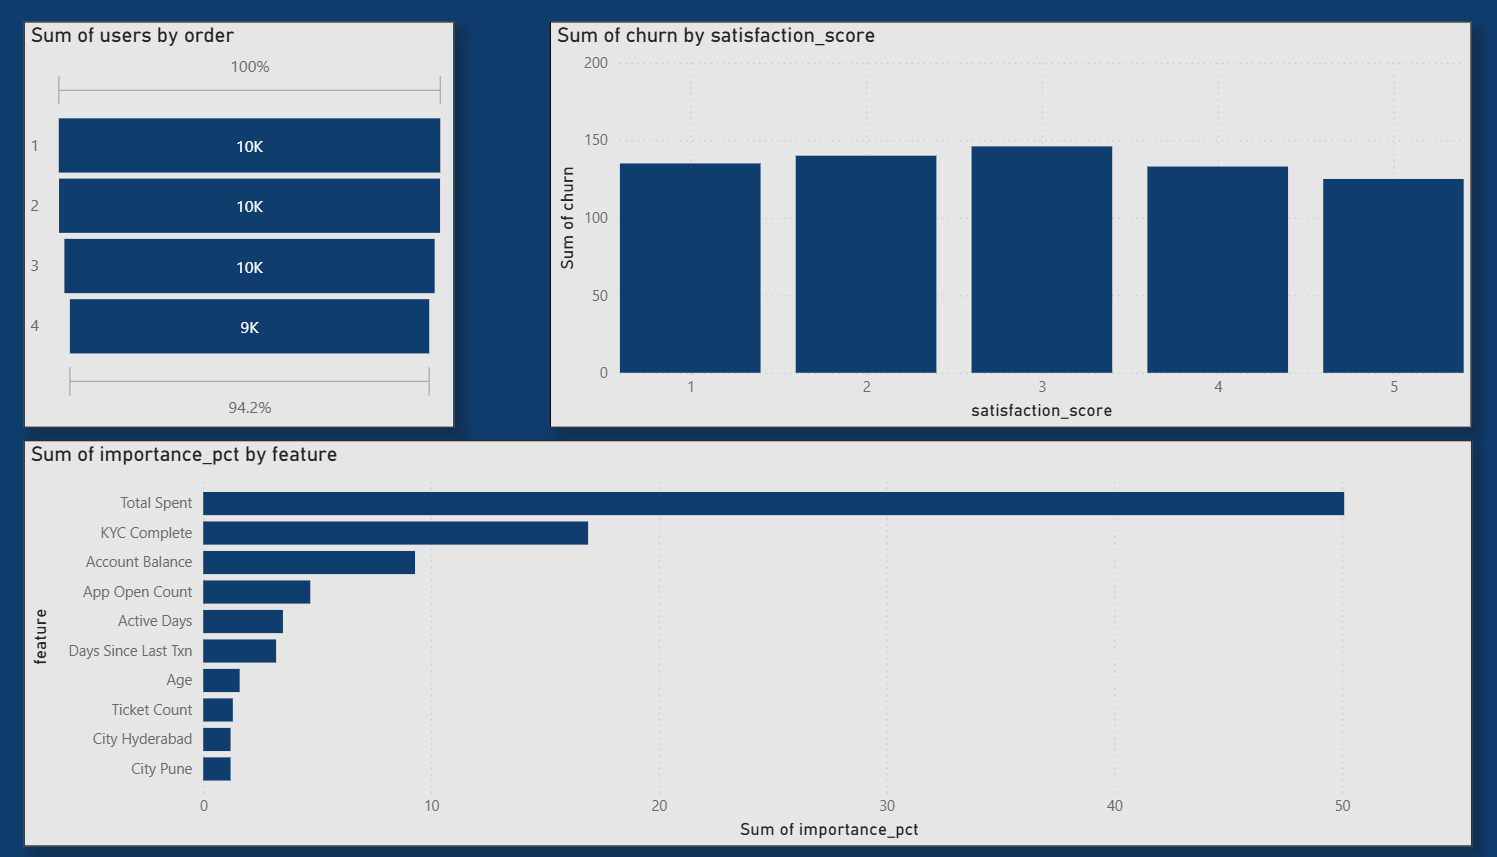

This screenshot's page, from the dashboard's own definition file:
{"tool":"powerbi","page":{"name":"Behavioral Funnel & Drivers","canvas":[1280,720],"ordinal":3},"visuals":[{"type":"funnel","fields":{"Category":["funnel.order"],"Y":["Sum(funnel.users)"]},"box":[31.4,26.7,353.5,333.7],"z":0},{"type":"columnChart","fields":{"Category":["support_tickets.satisfaction_score"],"Y":["Sum(support_tickets.churn)"]},"box":[464,26.7,757,333.7],"z":1000},{"type":"clusteredBarChart","fields":{"Category":["feature_importance.feature"],"Y":["Sum(feature_importance.importance_pct)"]},"box":[31.4,370.9,1189.5,333.7],"z":2000}]}

Visuals, with their boxes in screenshot pixels (x1, y1, x2, y2), scaled from the page's 1280x720 canvas onto the 1497x857 screenshot:
funnel - funnel.order x Sum(funnel.users): (37,32,450,429)
columnChart - support_tickets.satisfaction_score x Sum(support_tickets.churn): (543,32,1428,429)
clusteredBarChart - feature_importance.feature x Sum(feature_importance.importance_pct): (37,441,1428,839)
